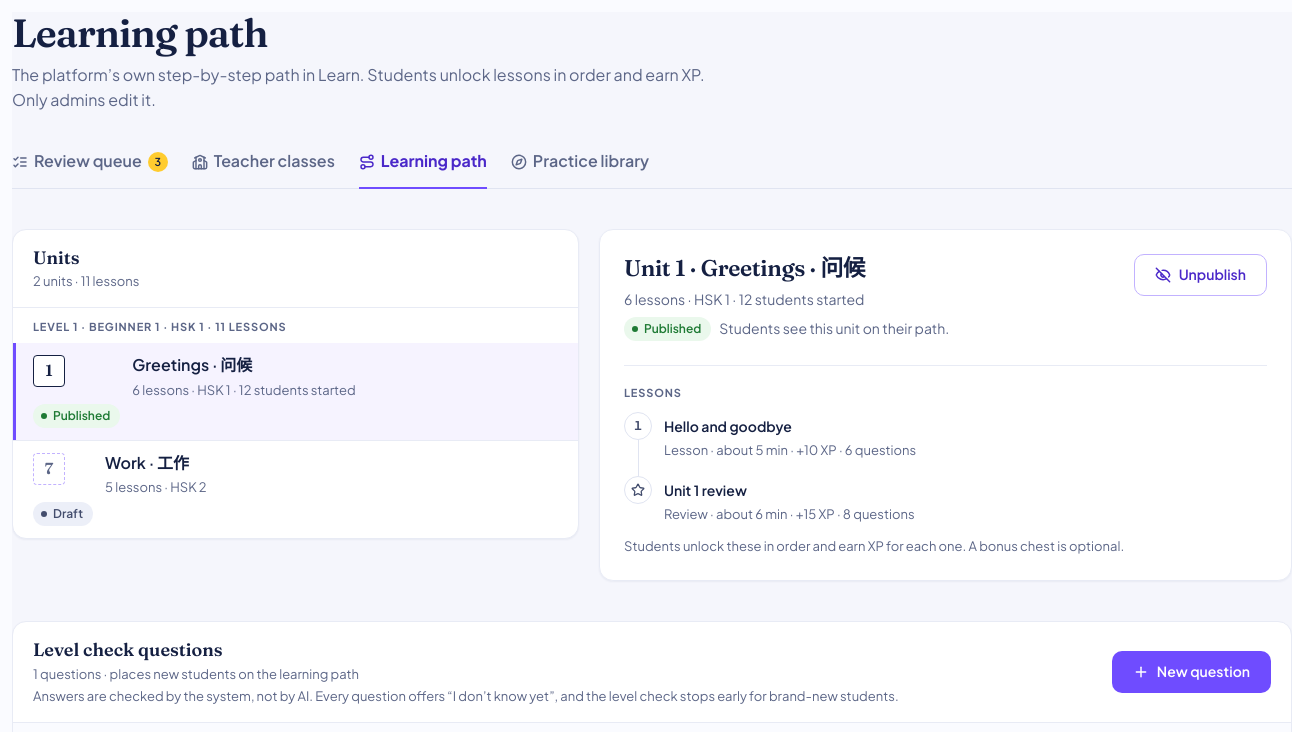
Scenario: AdminLearningPathPage › shows the first unit beside the path until another one is chosen
expect the heading "Unit 1 · Greetings · 问候" is shown: met, box [624, 254, 865, 282]
expect the element with test id "unit-detail" shows "Students see this unit on their path.": met, box [719, 319, 949, 337]
Click the button with test id "open-unit-7" at (49, 469), box [13, 441, 578, 538]
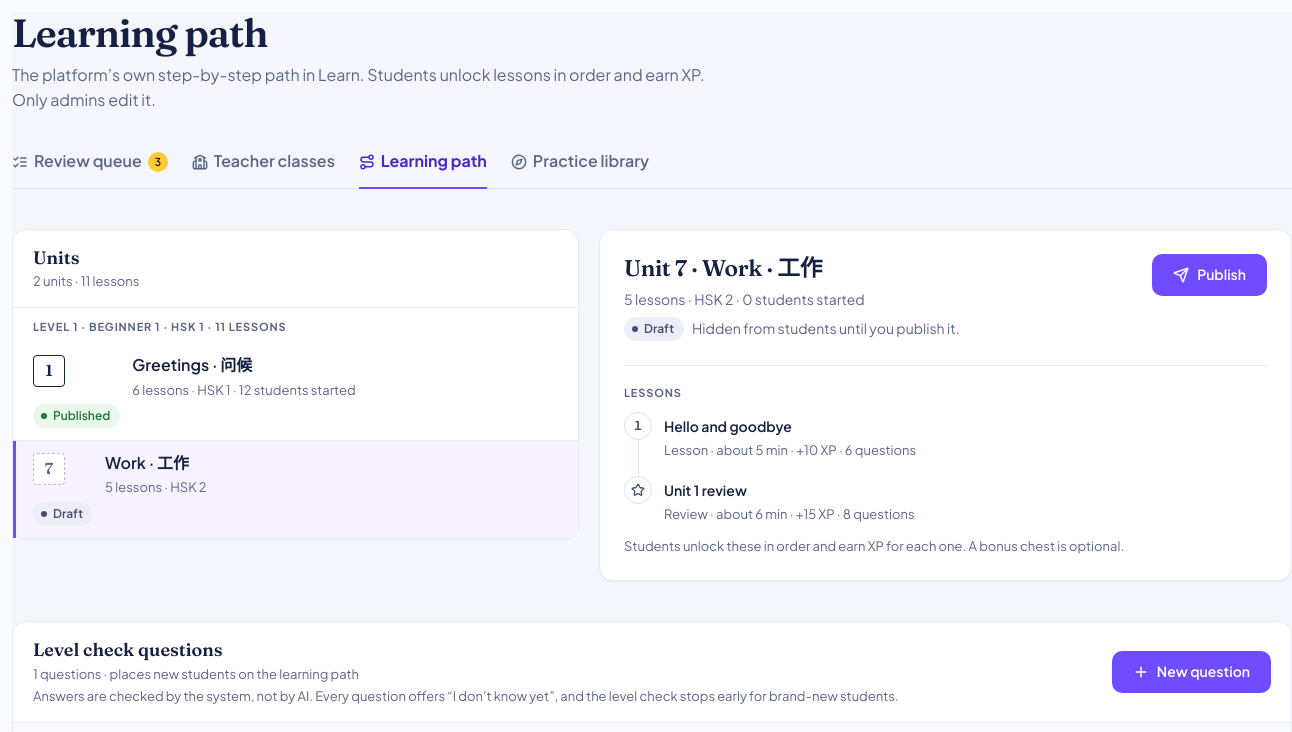
expect the button with test id "unit-publish" is shown: met, box [1152, 254, 1267, 296]
expect the element with test id "unit-detail" shows "Hidden from students until you publish it.": met, box [692, 319, 960, 337]
